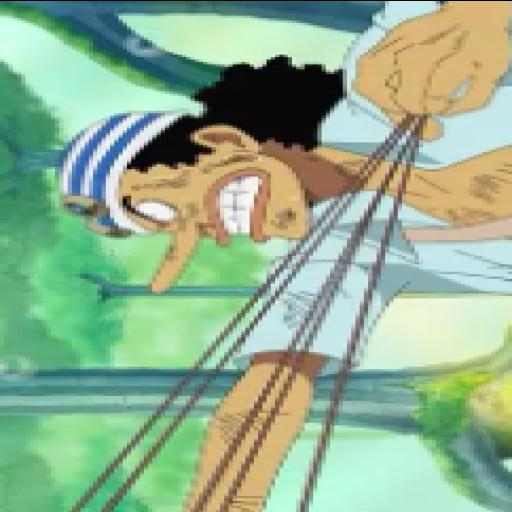Usopp: (45, 1, 512, 507)
